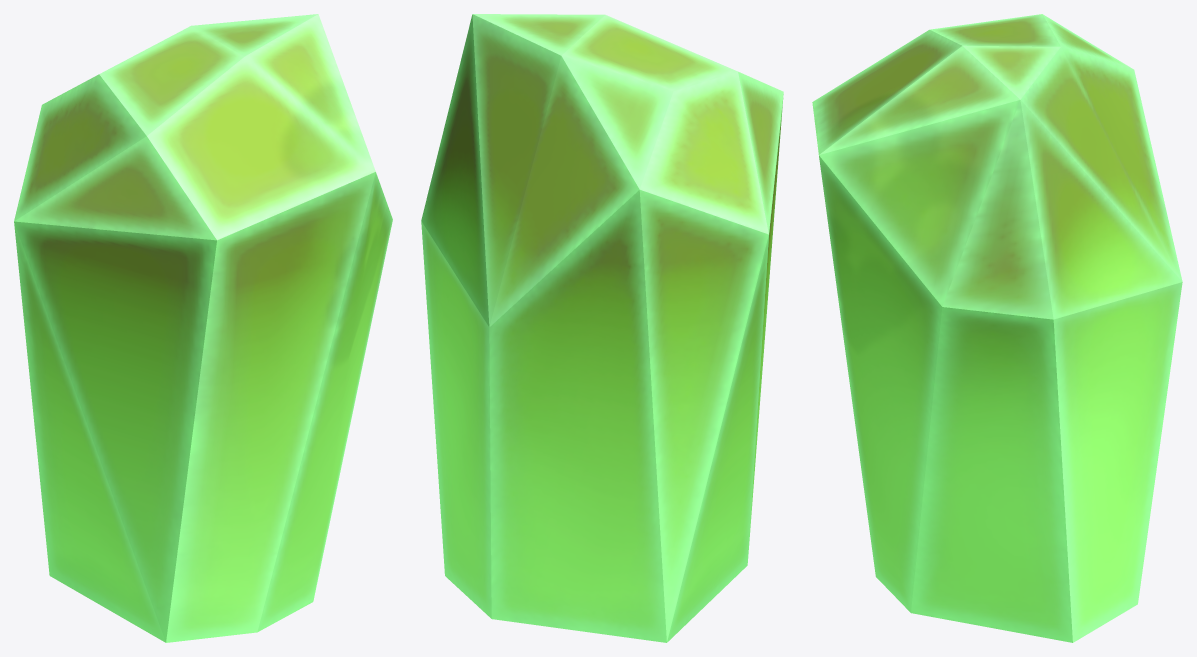
Rendered from crystal_piece_003.fbx.
The picture shows the model from 3 angles, left to right: view 1: azimuth 30°, elevation 25°; view 2: azimuth 150°, elevation 25°; view 3: azimuth 270°, elevation 25°; orthographic projection.
Visible parts, largest first — view 1: crystal_piece_003; view 2: crystal_piece_003; view 3: crystal_piece_003.
Boxes of the visible parts, x1,y1,x2,y2 form: crystal_piece_003: [14, 14, 392, 642]; crystal_piece_003: [421, 14, 783, 642]; crystal_piece_003: [812, 14, 1182, 642].
Size of the model in its own units: 0.4903 by 0.7536 by 0.4632.
1 material, 1 textured.
